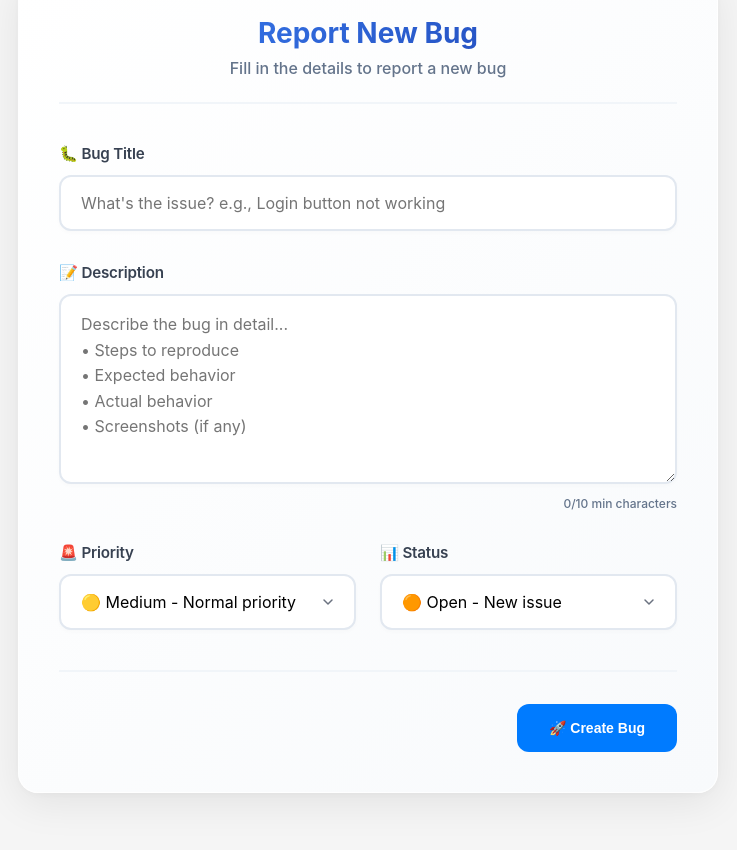
Test case: BugForm Component › validates form fields and shows errors
Click the button "🚀 Create Bug": (597, 728) [517,704,677,752]
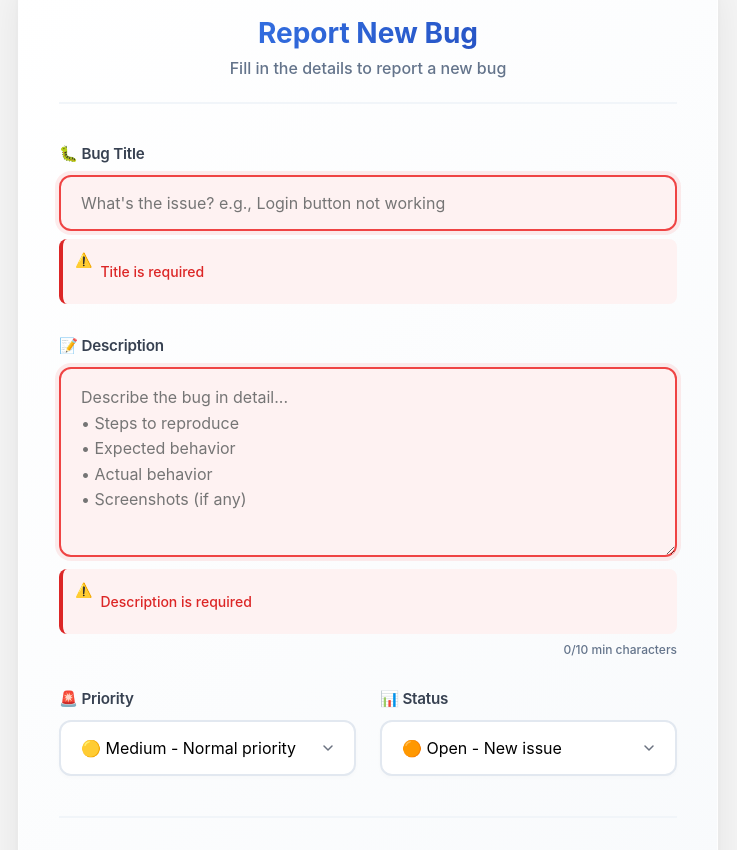
expect the text "⚠️ Title is required" is shown: met, box [59,239,677,304]
expect the text "⚠️ Description is required" is shown: met, box [59,569,677,634]
